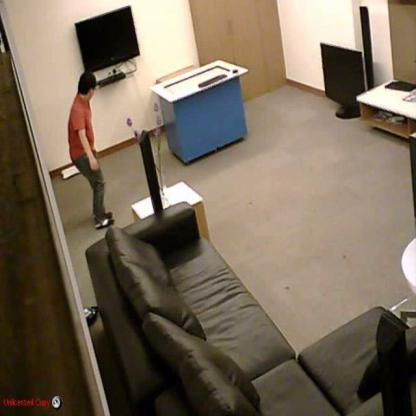Person: (68, 73, 114, 230)
